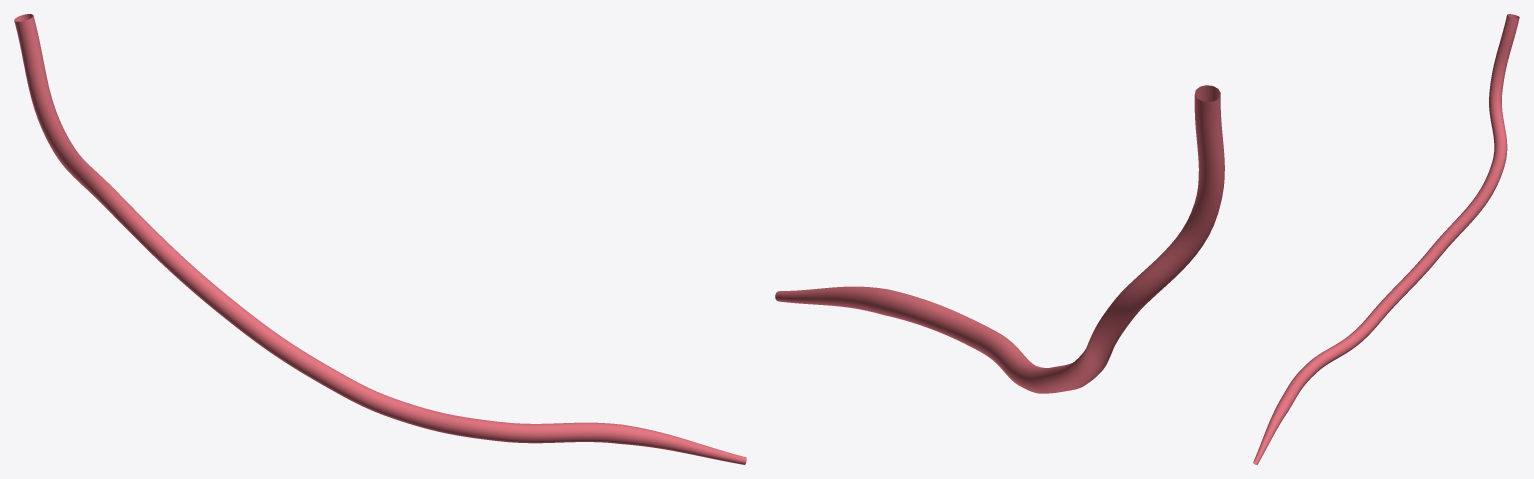
The picture shows the model from 3 angles, left to right: view 1: azimuth 30°, elevation 25°; view 2: azimuth 150°, elevation 25°; view 3: azimuth 270°, elevation 25°; orthographic projection. The views are drawn at different scales.
Parts seen in each view (by area): view 1: ZA_fa4b7c6bc95dafcc; view 2: ZA_fa4b7c6bc95dafcc; view 3: ZA_fa4b7c6bc95dafcc.
Boxes of the visible parts, left/top/right/bottom form: ZA_fa4b7c6bc95dafcc: left=14, top=14, right=746, bottom=464; ZA_fa4b7c6bc95dafcc: left=775, top=85, right=1224, bottom=393; ZA_fa4b7c6bc95dafcc: left=1253, top=14, right=1519, bottom=464.
Size of the model in its own units: 0.0308 by 0.0238 by 0.0203.
